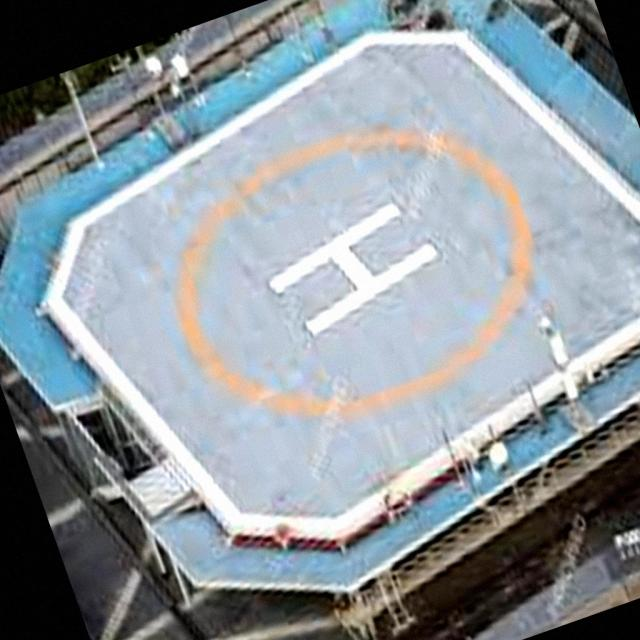helipad: (165, 122, 541, 422)
